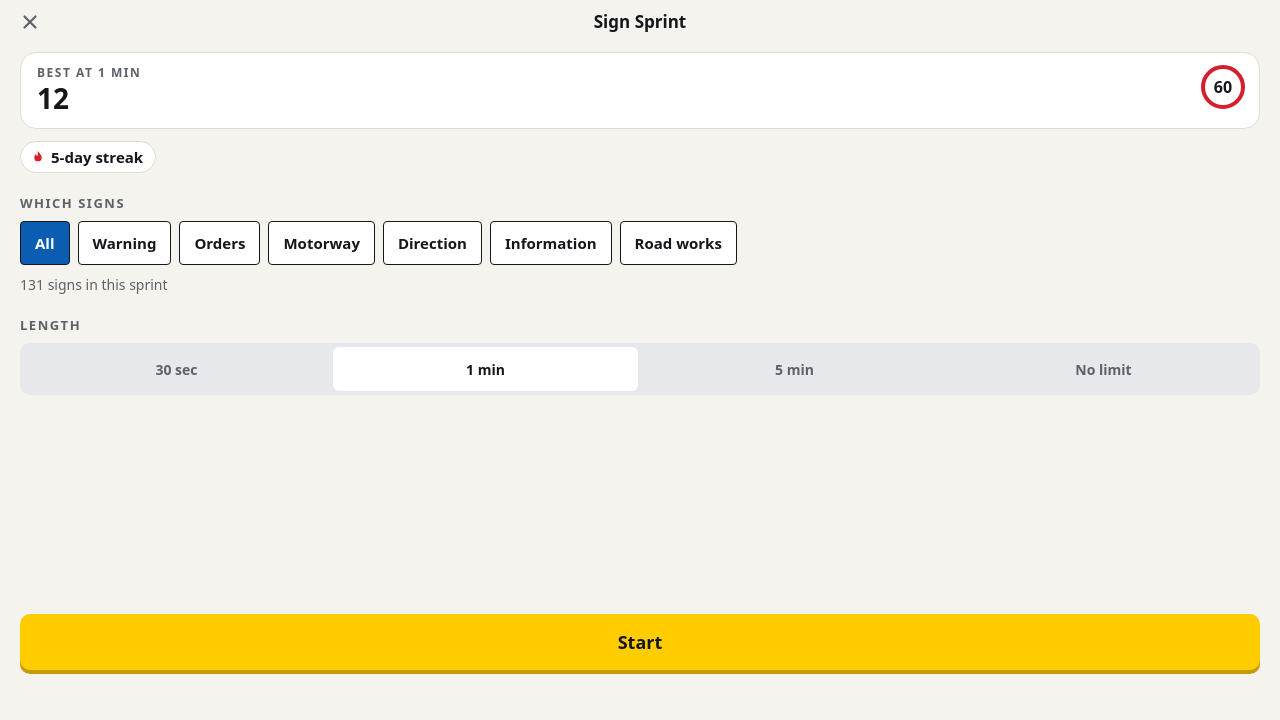
Test case: Sign Sprint start page › counts the signs in the sprint: 131 for All
Click the button "Warning" at (124, 243), box [78,221,171,265]
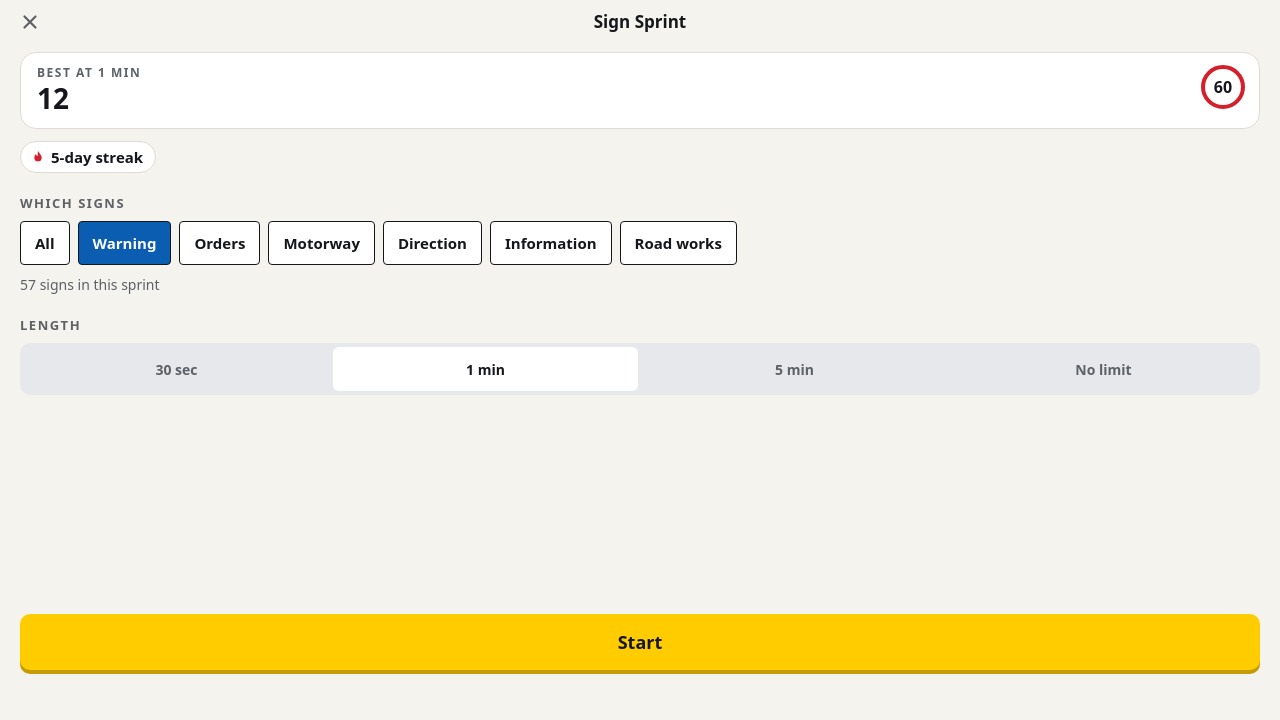
expect the text with class "sprint-start__count" reads "57 signs in this sprint": met, box [20,275,160,294]
Click the button "Orders" at (220, 243), box [179,221,260,265]
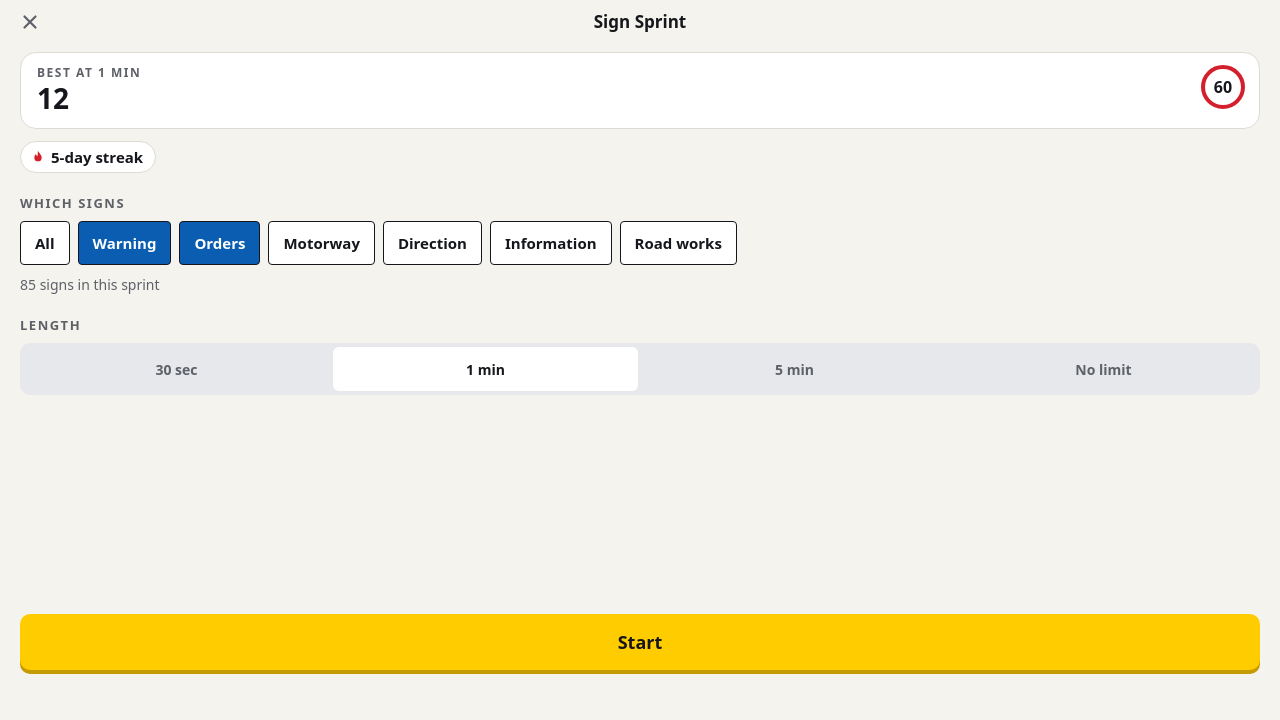
expect the text with class "sprint-start__count" reads "85 signs in this sprint": met, box [20,275,160,294]
Click the button "All" at (45, 243), box [20,221,70,265]
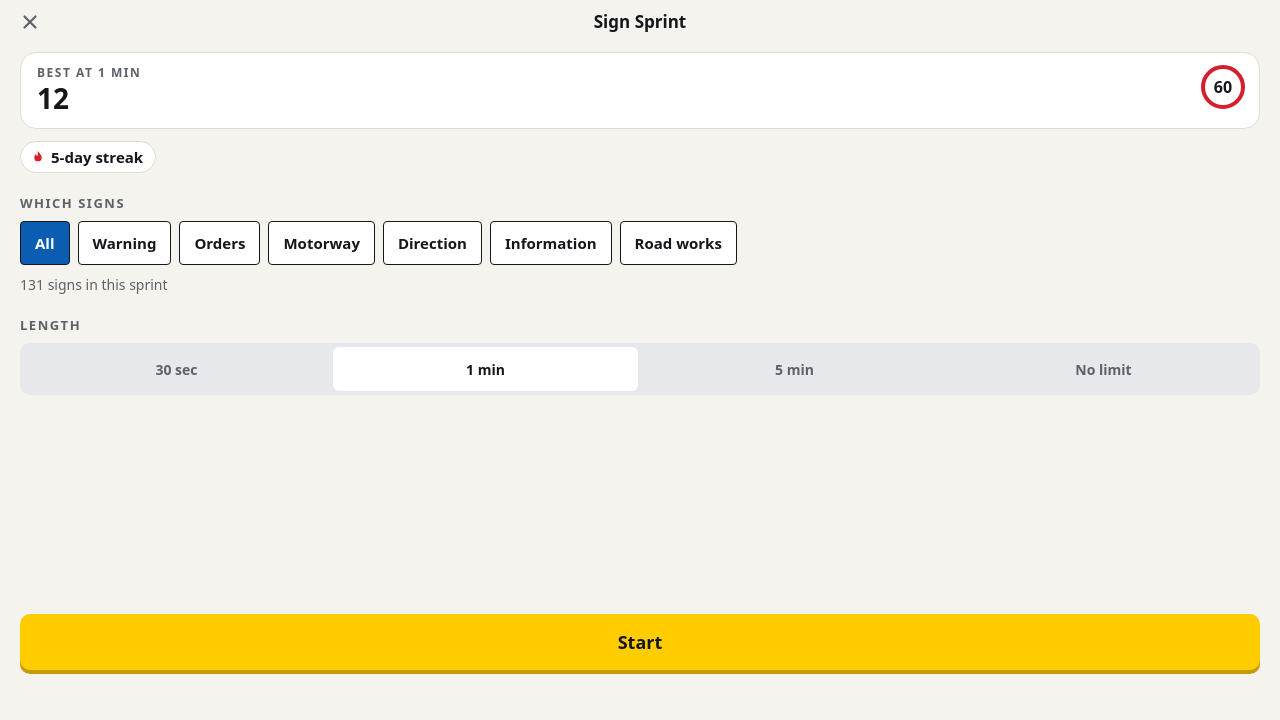
expect the text with class "sprint-start__count" reads "131 signs in this sprint": met, box [20,275,168,294]
